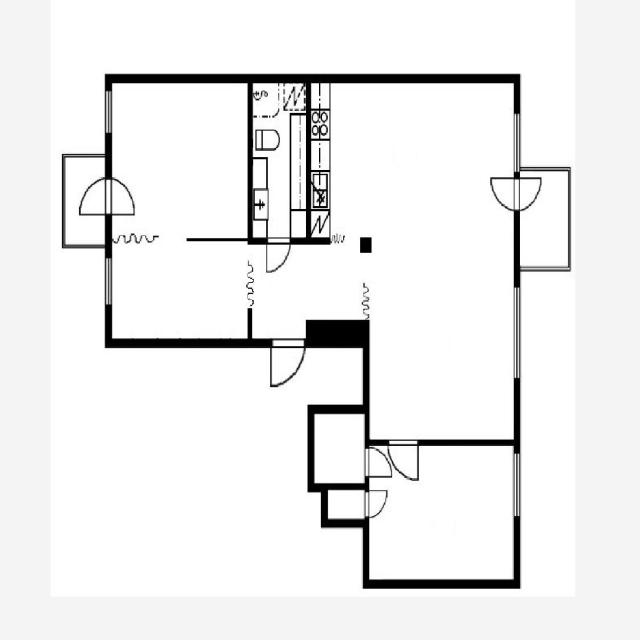door: (312, 416, 369, 488), (485, 172, 547, 214), (268, 337, 308, 388), (386, 436, 422, 483), (74, 176, 112, 219), (106, 177, 138, 219), (361, 442, 392, 481), (264, 237, 292, 274), (363, 485, 390, 519)
window: (506, 279, 526, 384), (508, 109, 526, 175), (509, 446, 524, 523), (102, 86, 115, 140), (103, 254, 114, 309)
zone: (339, 70, 524, 453), (251, 82, 518, 235), (105, 76, 254, 240), (362, 439, 518, 586), (108, 240, 250, 347), (252, 81, 308, 238), (310, 412, 368, 486), (324, 486, 366, 521)
